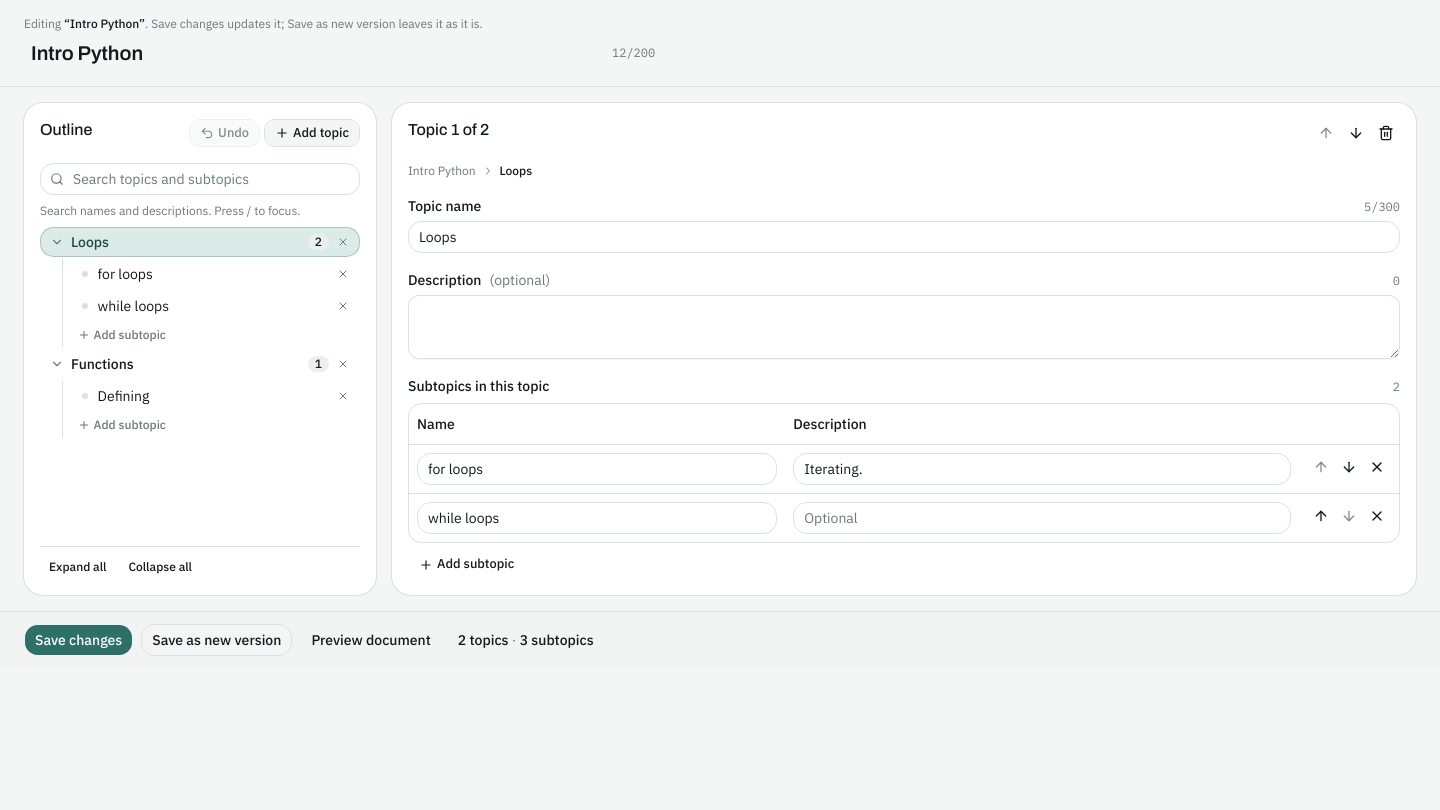
Test case: TaxonomyBuilder › editing a saved taxonomy › keeps an edited copy, together with the taxonomy it came from
The image size is (1440, 810).
Type " v2" into the field named "Taxonomy name" at (312, 53), box [24,36,600,70]
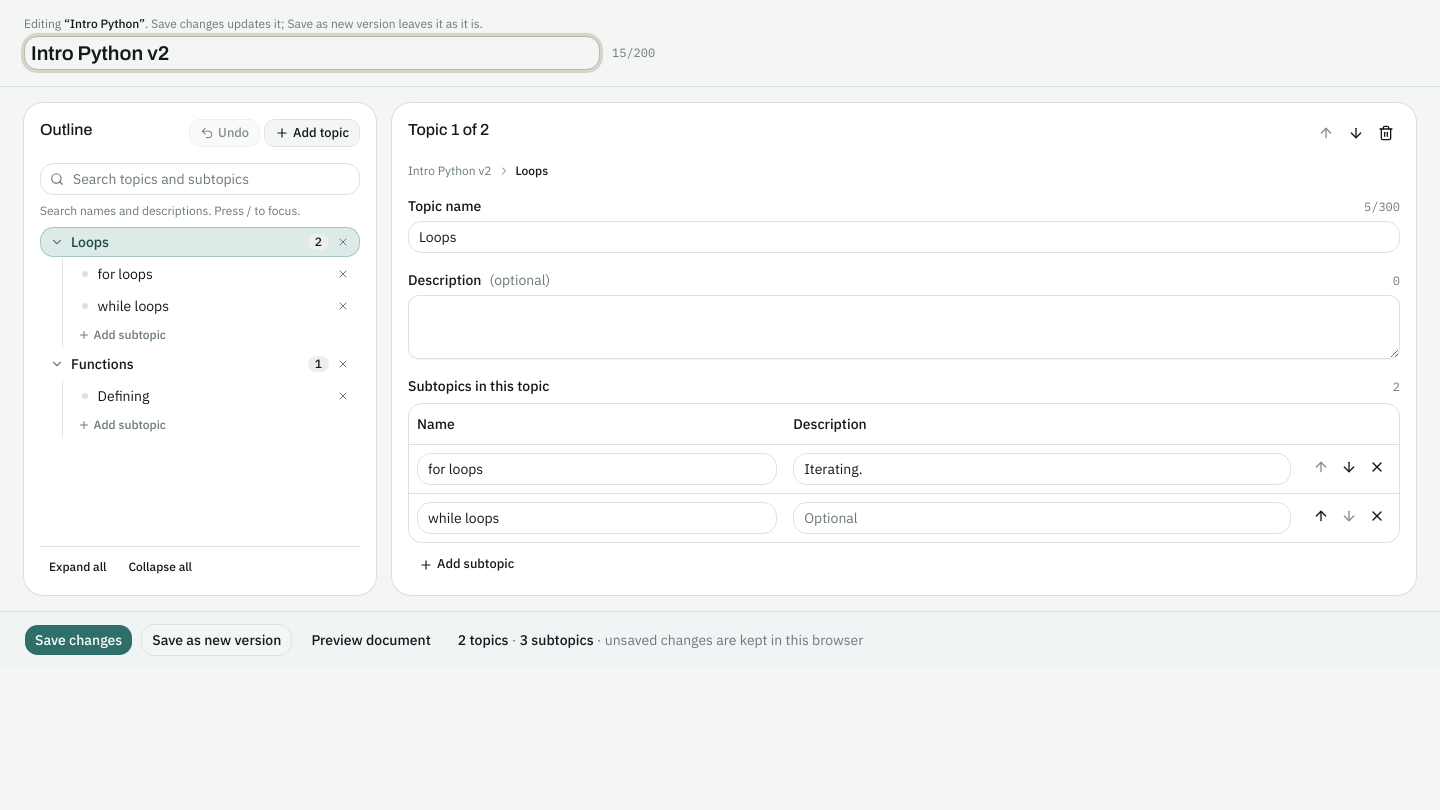
Result: the text "Intro Python v2" is shown at [408,163,492,179]
